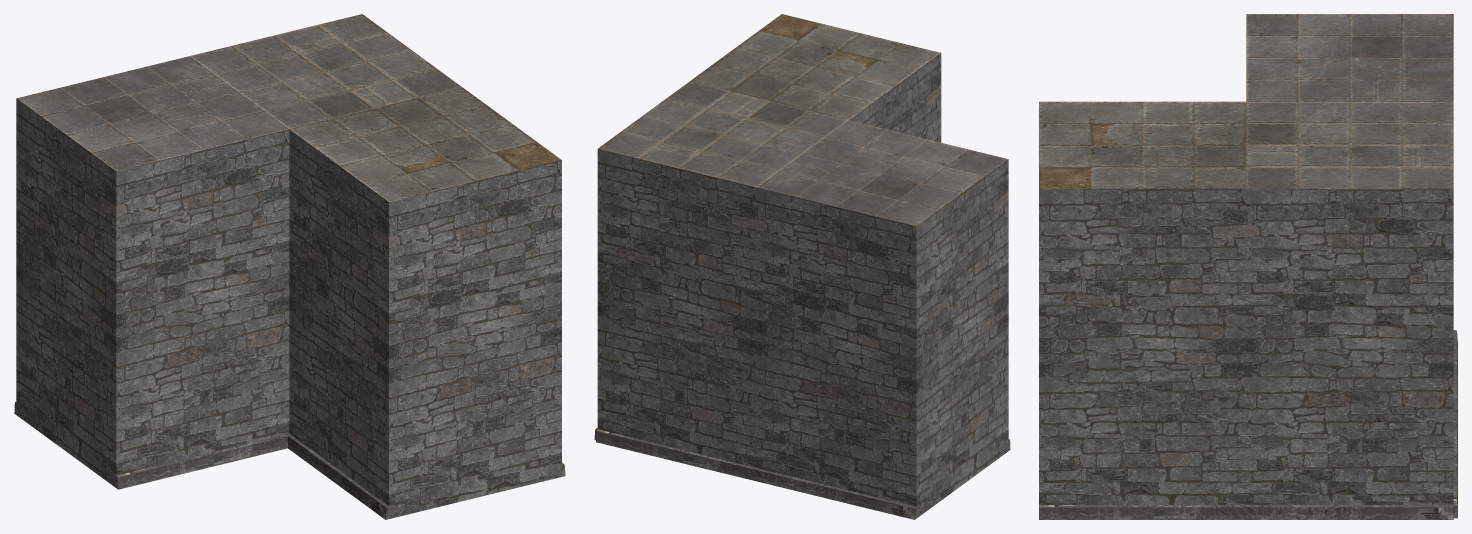
File: MC_Castle_Wall_A_Angle.fbx
3 renders of one model, left to right at view 1: azimuth 30°, elevation 25°; view 2: azimuth 150°, elevation 25°; view 3: azimuth 270°, elevation 25°, orthographic. The views are drawn at different scales.
Parts seen in each view (by area): view 1: MC_Castle_Wall_A_Angle; view 2: MC_Castle_Wall_A_Angle; view 3: MC_Castle_Wall_A_Angle.
Boxes of the visible parts, box(x1,y1,x2,y2) form: MC_Castle_Wall_A_Angle: box(14, 14, 565, 519); MC_Castle_Wall_A_Angle: box(594, 14, 1010, 519); MC_Castle_Wall_A_Angle: box(1039, 14, 1457, 519).
Size of the model in its own units: 808 by 700 by 808.
